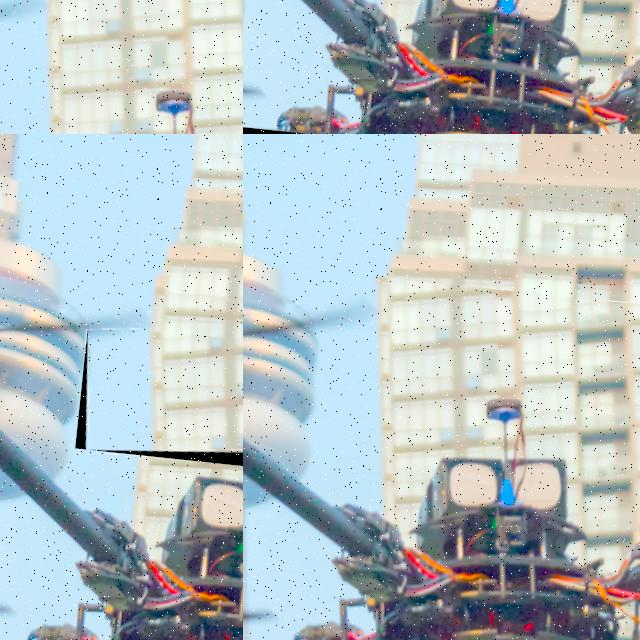drone: (243, 248, 640, 640), (0, 0, 243, 134), (74, 323, 243, 475)
